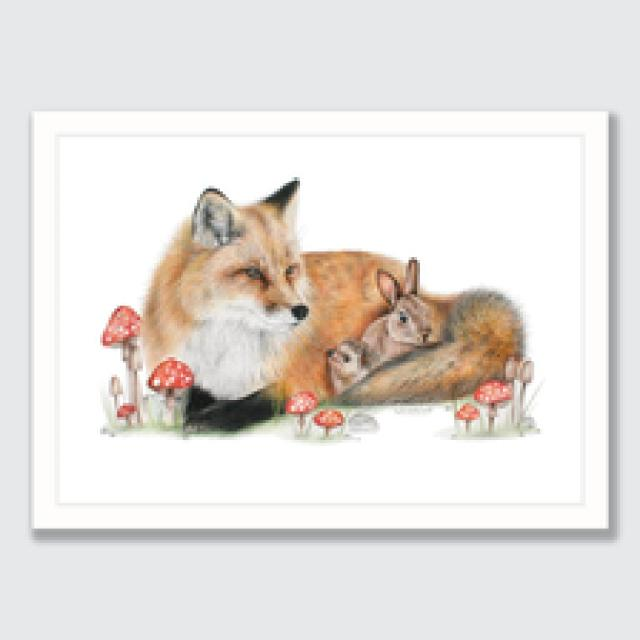fox: (128, 173, 436, 403), (331, 260, 534, 405)
